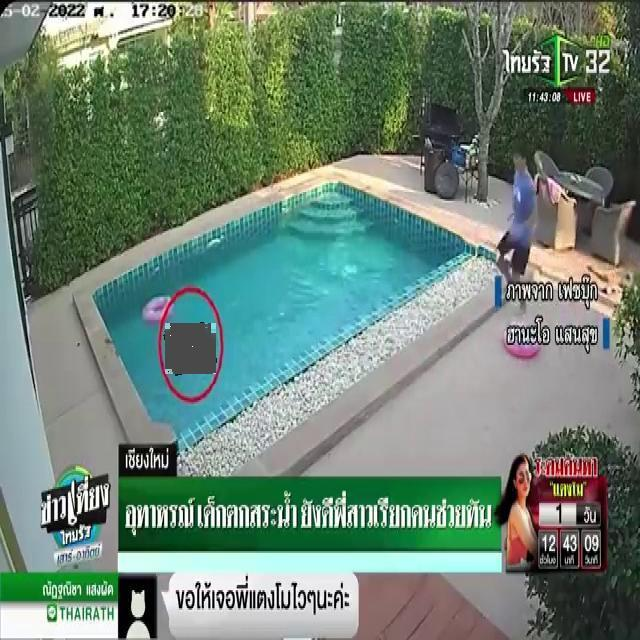Out of Water: (165, 323, 216, 374)
